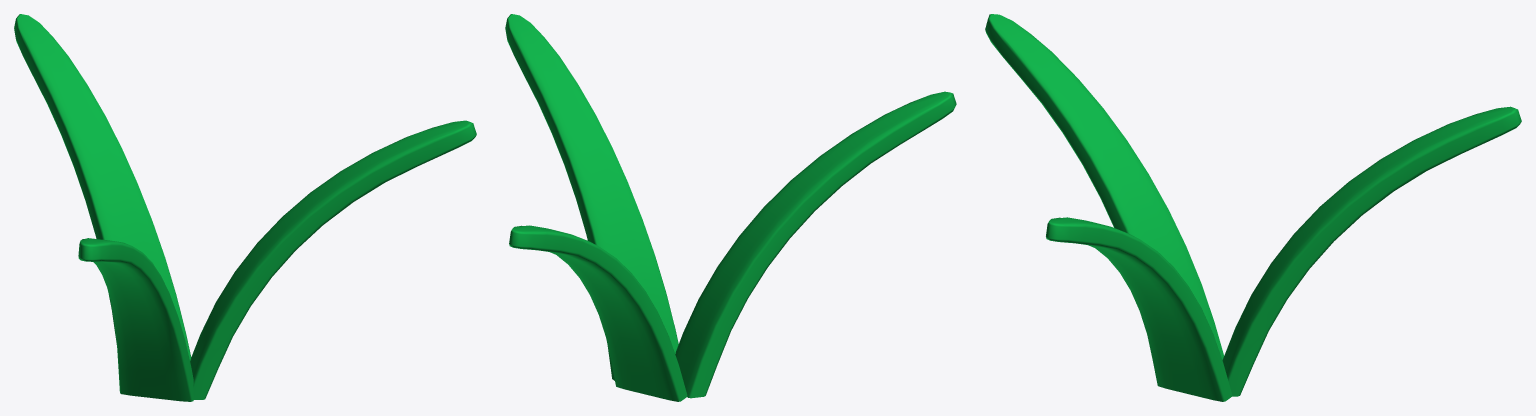
The model's file is Town_20_Grass_2.glb.
3 renders of one model, left to right at view 1: azimuth 30°, elevation 25°; view 2: azimuth 150°, elevation 25°; view 3: azimuth 270°, elevation 25°, orthographic. The views are drawn at different scales.
Parts seen in each view (by area): view 1: Town_20_Grass_2; view 2: Town_20_Grass_2; view 3: Town_20_Grass_2.
Part boxes in pixels (<box>): Town_20_Grass_2: <box>14,14,476,401</box>; Town_20_Grass_2: <box>505,14,956,401</box>; Town_20_Grass_2: <box>985,14,1521,401</box>.
Size of the model in its own units: 0.4917 by 0.2913 by 0.5211.
1 material, 1 textured.
